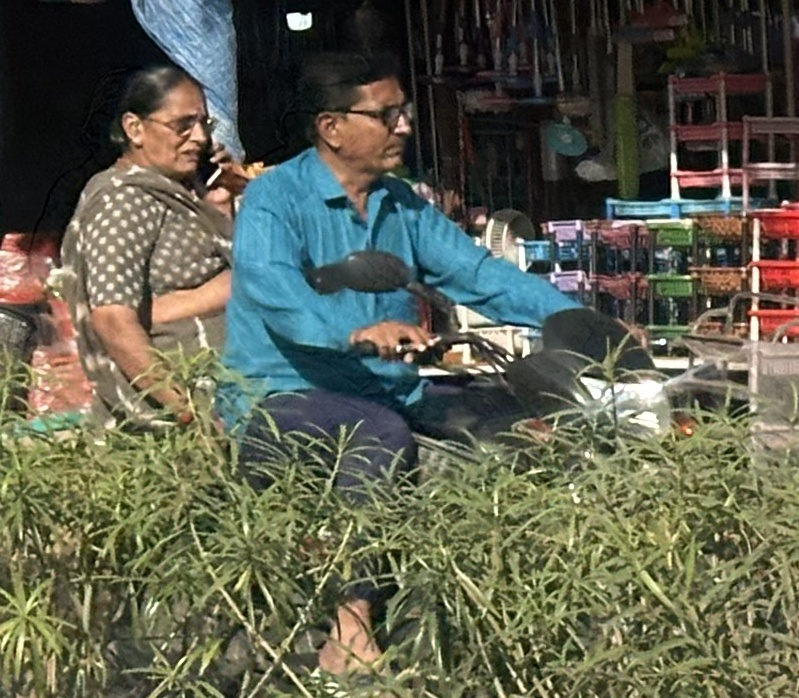BikeWithRider: (35, 41, 701, 450)
NoHelmet: (284, 43, 427, 180), (97, 55, 228, 191)
